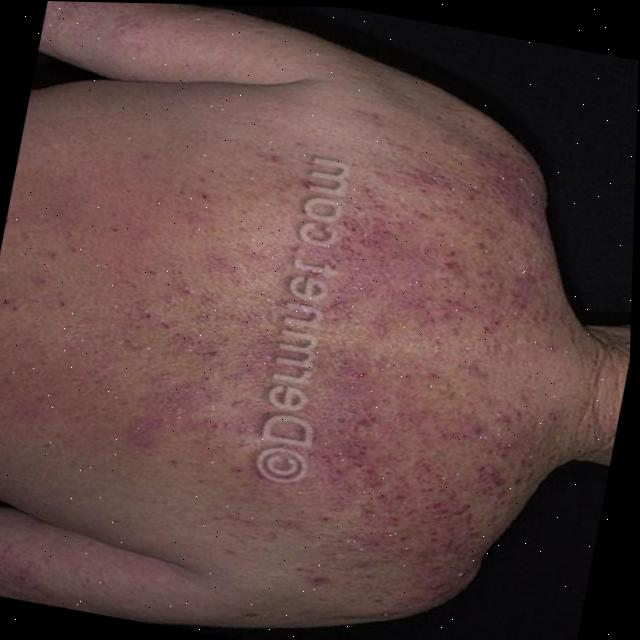Eczema: (274, 114, 590, 593), (43, 1, 85, 24)
